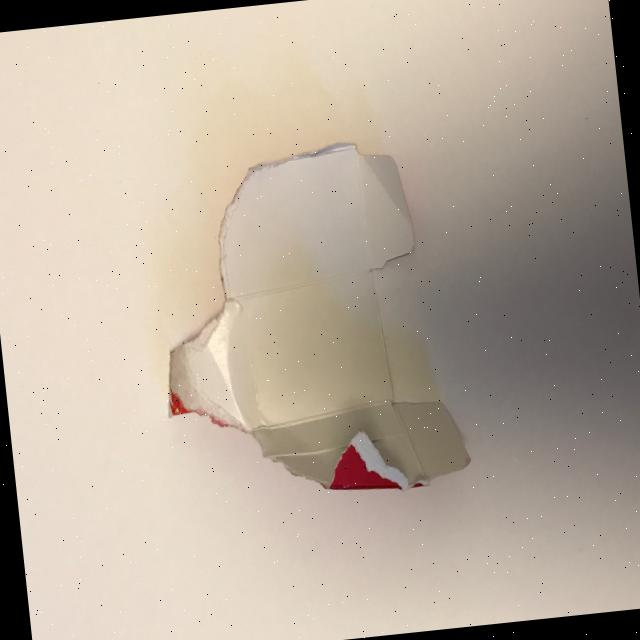paper: (142, 131, 473, 513)
